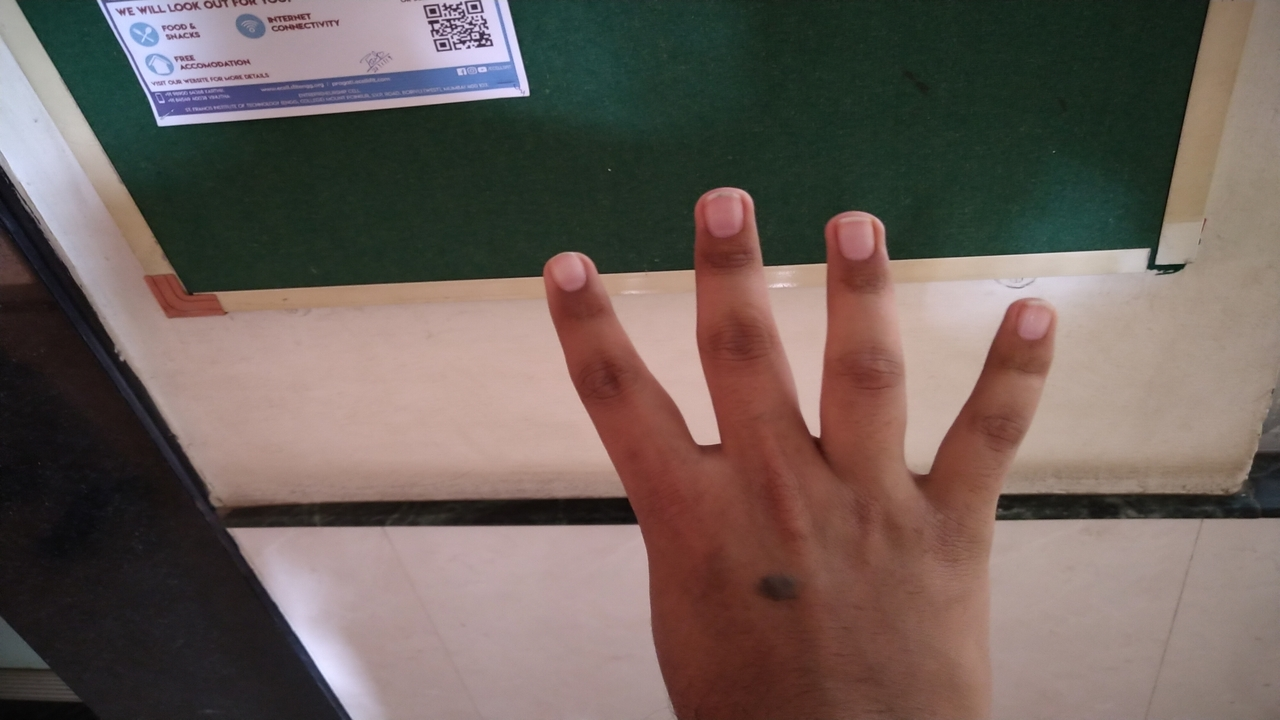fingertip: (694, 180, 762, 248), (1000, 294, 1068, 358), (822, 206, 894, 266), (536, 244, 604, 306)
